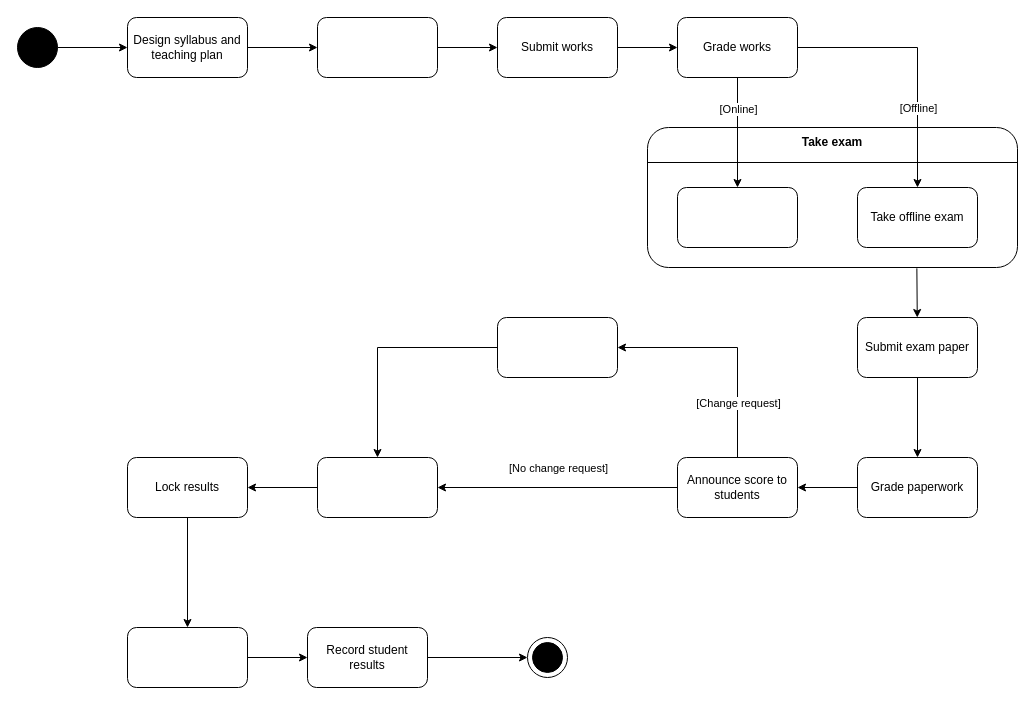
The diagram is 1036 pixels wide and 705 high, and some of its shapes have lost their labels. The shapes that lost their labels are listed below. From the top down, each one's centre as x and y in pixels, then its label:
point (377, 47): Assign works
point (737, 217): Take online exam
point (557, 347): Edit score
point (377, 487): Post score to Edusoft web
point (187, 657): Check the progress
